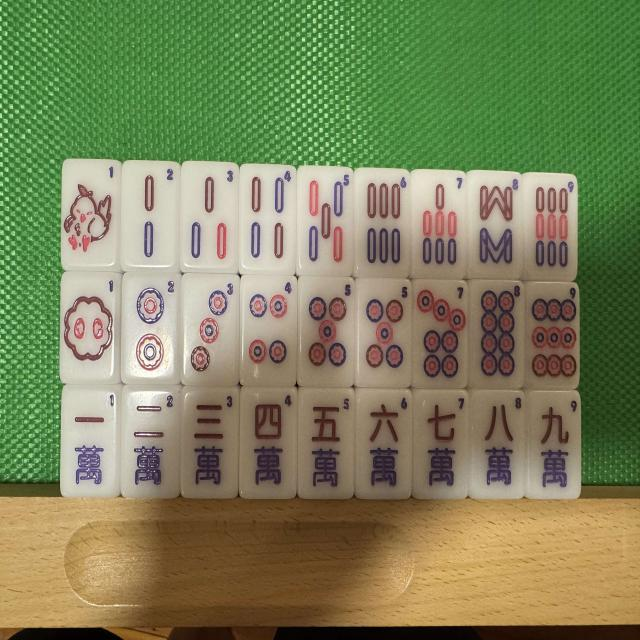m1: (61, 384, 121, 496)
m2: (122, 386, 183, 497)
m3: (183, 386, 240, 496)
m4: (240, 387, 296, 497)
m5: (297, 388, 354, 499)
m6: (355, 390, 411, 500)
m7: (412, 388, 469, 498)
m8: (470, 392, 524, 501)
m9: (526, 391, 582, 499)
s1: (62, 163, 119, 267)
s2: (121, 161, 180, 268)
s3: (183, 163, 238, 271)
s4: (240, 165, 296, 275)
s5: (298, 168, 354, 276)
s6: (356, 168, 410, 276)
s7: (412, 169, 469, 277)
s8: (470, 172, 524, 278)
s9: (526, 175, 578, 278)
t1: (61, 273, 119, 383)
t2: (121, 272, 181, 384)
t3: (184, 274, 241, 386)
t4: (240, 277, 298, 386)
t5: (298, 278, 356, 386), (357, 277, 413, 386)
t7: (413, 280, 467, 386)
t8: (469, 281, 525, 388)
t9: (526, 282, 580, 386)
